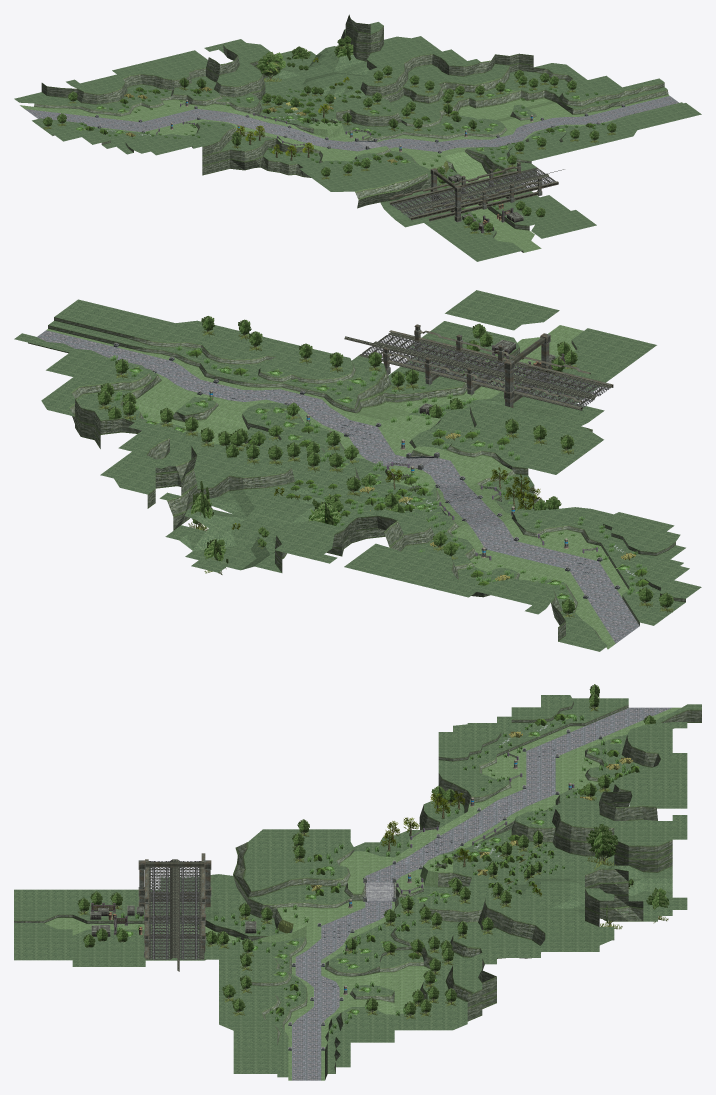
File: East4.obj
3 renders of one model, top to bottom at view 1: azimuth 30°, elevation 25°; view 2: azimuth 150°, elevation 25°; view 3: azimuth 270°, elevation 25°, orthographic. The views are drawn at different scales.
Visible parts, largest first — view 1: Object.248, Object.95, Object.247, Object.275, Object.285, Object.97, Object.190, Object.1, Object.191, Object.122, Object.89, Object.187 (+57 smaller); view 2: Object.248, Object.188, Object.247, Object.191, Object.200, Object.405, Object.275, Object.408, Object.292, Object.407, Object.291, Object.222 (+82 smaller); view 3: Object.248, Object.247, Object.200, Object.285, Object.406, Object.408, Object.407, Object.275, Object.4, Object.249, Object.292, Object.70 (+60 smaller).
Part boxes in pixels (left/top/right/bottom): Object.248: left=530, top=210, right=596, bottom=236; Object.95: left=211, top=127, right=244, bottom=172; Object.247: left=456, top=237, right=513, bottom=261; Object.275: left=338, top=169, right=397, bottom=191; Object.285: left=380, top=38, right=432, bottom=62; Object.97: left=254, top=143, right=302, bottom=176; Object.190: left=265, top=75, right=321, bottom=97; Object.1: left=385, top=138, right=489, bottom=183; Object.191: left=301, top=63, right=358, bottom=87; Object.122: left=355, top=182, right=399, bottom=208; Object.89: left=459, top=60, right=503, bottom=108; Object.187: left=338, top=51, right=395, bottom=78; Object.248: left=445, top=290, right=545, bottom=330; Object.188: left=193, top=516, right=278, bottom=564; Object.247: left=574, top=331, right=656, bottom=368; Object.191: left=225, top=493, right=312, bottom=532; Object.200: left=442, top=401, right=520, bottom=440; Object.405: left=529, top=373, right=612, bottom=408; Object.275: left=507, top=410, right=583, bottom=452; Object.408: left=360, top=332, right=445, bottom=366; Object.292: left=622, top=573, right=701, bottom=613; Object.407: left=418, top=346, right=499, bottom=379; Object.291: left=607, top=536, right=677, bottom=576; Object.222: left=57, top=362, right=130, bottom=405; Object.248: left=14, top=929, right=72, bottom=960; Object.247: left=14, top=889, right=82, bottom=914; Object.200: left=244, top=860, right=306, bottom=897; Object.285: left=541, top=921, right=599, bottom=945; Object.406: left=148, top=884, right=201, bottom=910; Object.408: left=145, top=933, right=201, bottom=959; Object.407: left=148, top=908, right=201, bottom=934; Object.275: left=244, top=842, right=320, bottom=872; Object.4: left=365, top=866, right=452, bottom=1003; Object.249: left=72, top=936, right=130, bottom=960; Object.292: left=541, top=695, right=599, bottom=722; Object.70: left=599, top=868, right=643, bottom=908.
Bounding box in the file's own units: 228 × 27 × 188.
